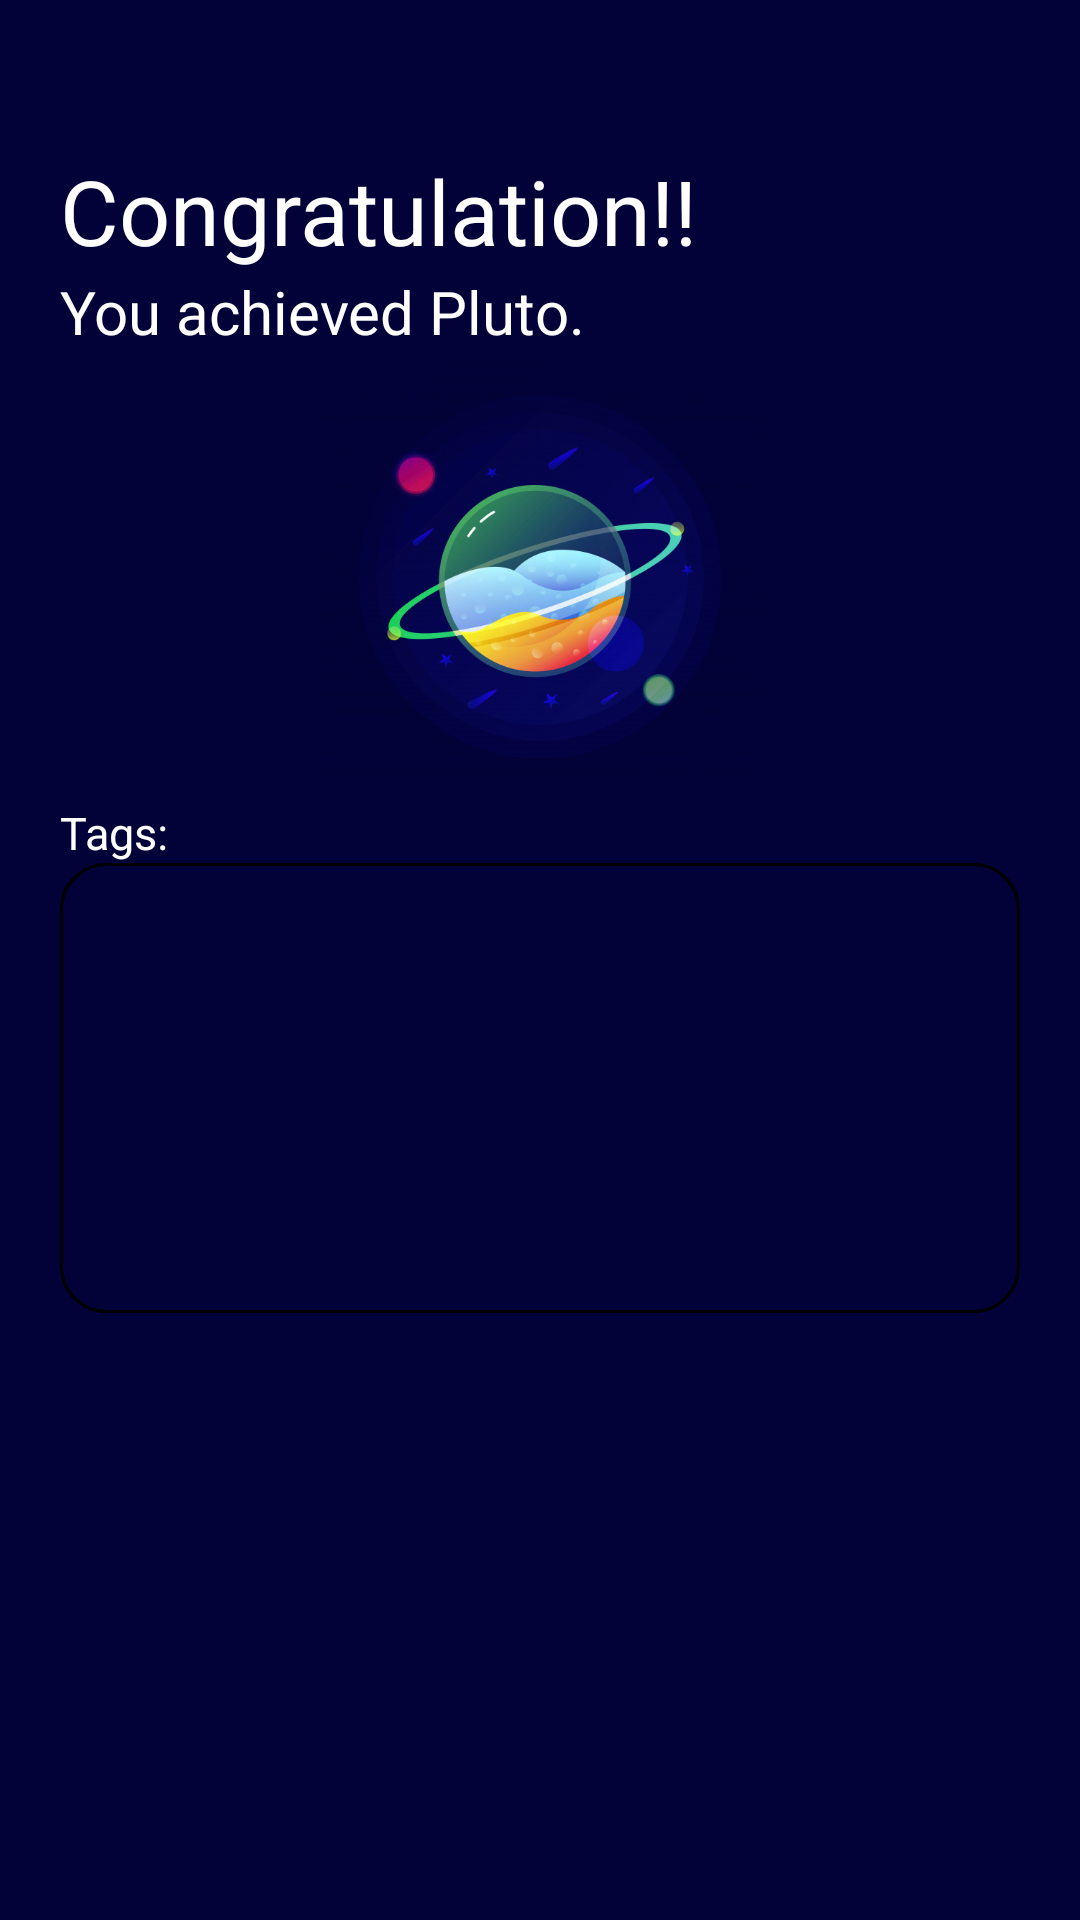

Locate icon controls on the screen. Image size 1080x1920, boxes as BBox(x1, y1, x2, y2).
planet: BBox(386, 444, 701, 738)
